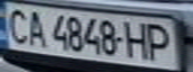4: (45, 11, 69, 51), (81, 16, 103, 55)
8: (96, 17, 124, 57), (63, 14, 84, 53)
A: (21, 8, 48, 47)
C: (0, 6, 30, 45)
H: (121, 18, 154, 61)
P: (142, 20, 178, 62)
